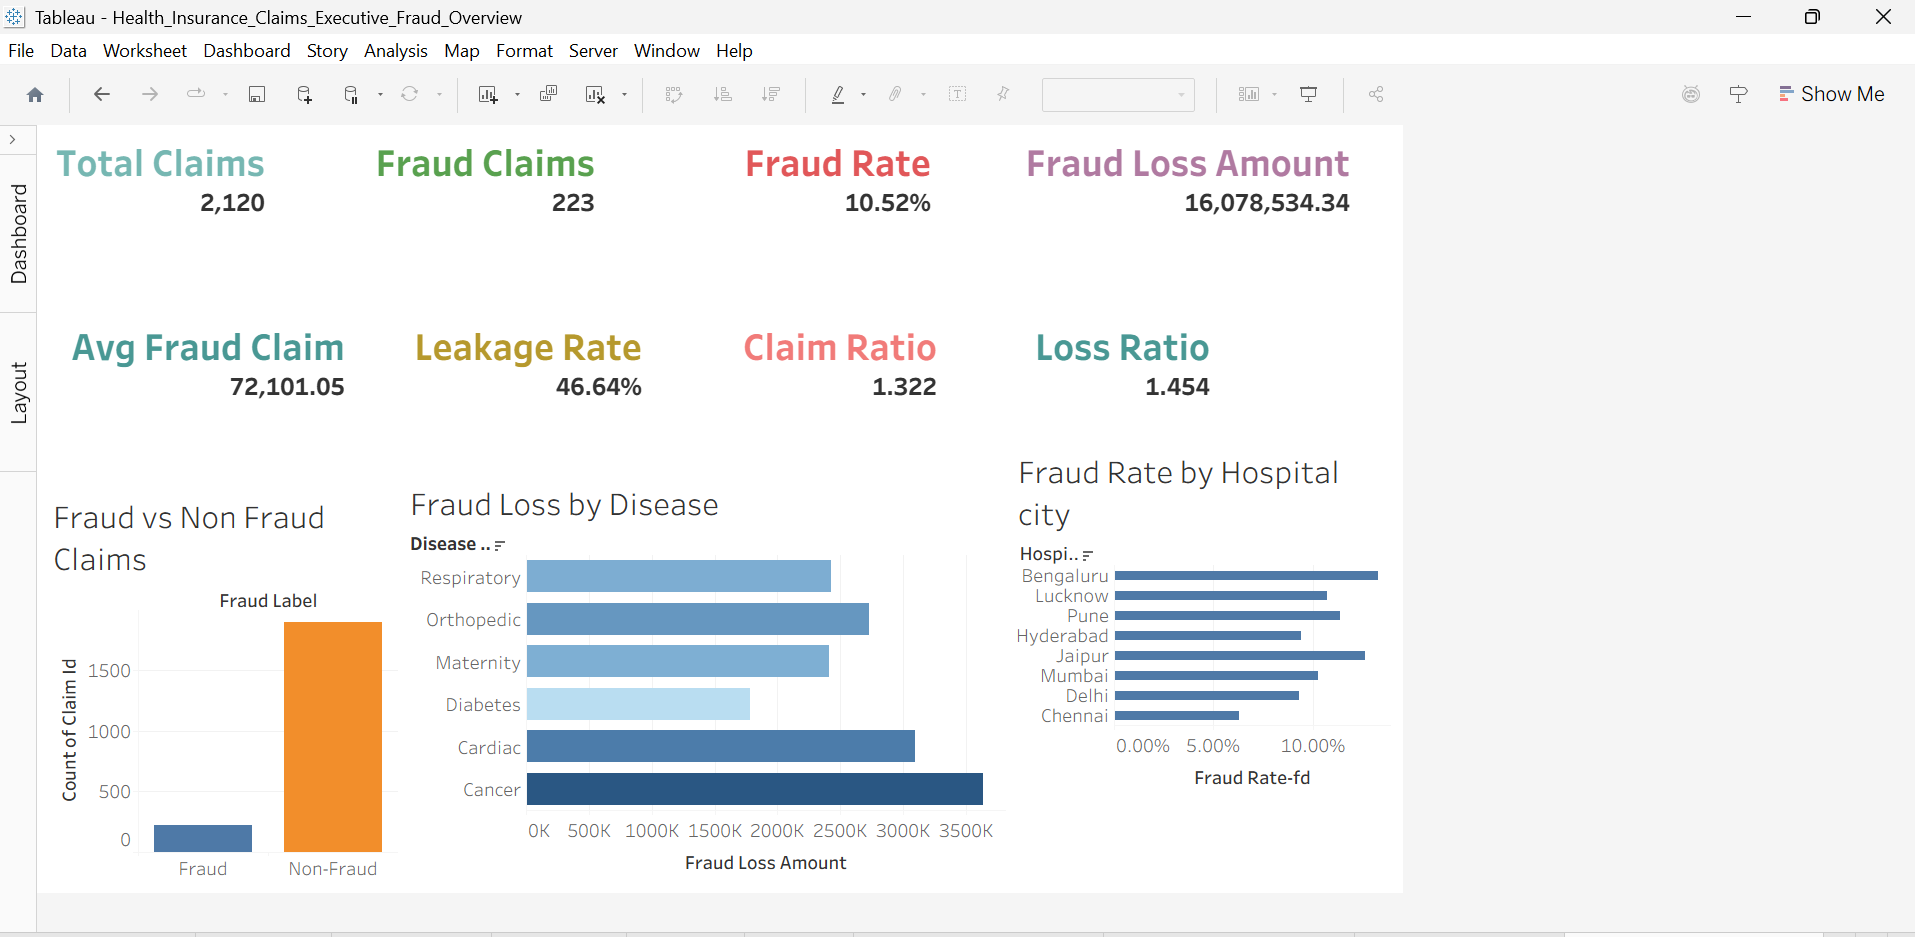

The dashboard page shown, as its layout file describes it:
{"tool":"tableau","page":{"name":"Executive Fraud Overview","canvas":[1366,768],"ordinal":0},"visuals":[{"type":"worksheet","title":"Total Claims","mark":"Automatic","box":[8,8,310,184]},{"type":"worksheet","title":"Fraud Claims","mark":"Automatic","box":[318,8,376,184]},{"type":"worksheet","title":"Fraud Rate","mark":"Automatic","box":[694,8,279,184]},{"type":"worksheet","title":"Fraud Loss Amount","mark":"Automatic","box":[973,8,385,184]},{"type":"worksheet","title":"Avg Fraud Claim","mark":"Automatic","box":[8,192,357.3,170]},{"type":"worksheet","title":"Leakage Rate","mark":"Automatic","box":[365.4,192,314.3,157]},{"type":"worksheet","title":"Claim Ratio","mark":"Automatic","box":[679.7,192,293.3,157]},{"type":"worksheet","title":"Loss Ratio","mark":"Automatic","box":[973,192,385,125]},{"type":"worksheet","title":"Fraud Rate by Hospital city","mark":"Bar","rows":["hospital_city"],"cols":["Calculation_1832063180660744"],"box":[973,317,385,443]},{"type":"worksheet","title":"Fraud Loss by Disease","mark":"Automatic","rows":["disease_category"],"cols":["fraud_loss_amount"],"box":[365.4,349,607.7,411]},{"type":"worksheet","title":"Fraud vs Non Fraud Claims","mark":"Automatic","rows":["claim_id"],"cols":["Calculation_1832063237885966"],"box":[8,362,357.3,398]}]}

Visuals, with their boxes on the page's 1366x768 design canvas (x1, y1, x2, y2). These are canvas units, not pixel positions in the 1915x937 screenshot, which may show the page scaled, cropped or inside an application window:
"Total Claims" worksheet: bbox(8, 8, 318, 192)
"Fraud Claims" worksheet: bbox(318, 8, 694, 192)
"Fraud Rate" worksheet: bbox(694, 8, 973, 192)
"Fraud Loss Amount" worksheet: bbox(973, 8, 1358, 192)
"Avg Fraud Claim" worksheet: bbox(8, 192, 365, 362)
"Leakage Rate" worksheet: bbox(365, 192, 680, 349)
"Claim Ratio" worksheet: bbox(680, 192, 973, 349)
"Loss Ratio" worksheet: bbox(973, 192, 1358, 317)
"Fraud Rate by Hospital city" worksheet (Bar marks): bbox(973, 317, 1358, 760)
"Fraud Loss by Disease" worksheet: bbox(365, 349, 973, 760)
"Fraud vs Non Fraud Claims" worksheet: bbox(8, 362, 365, 760)
